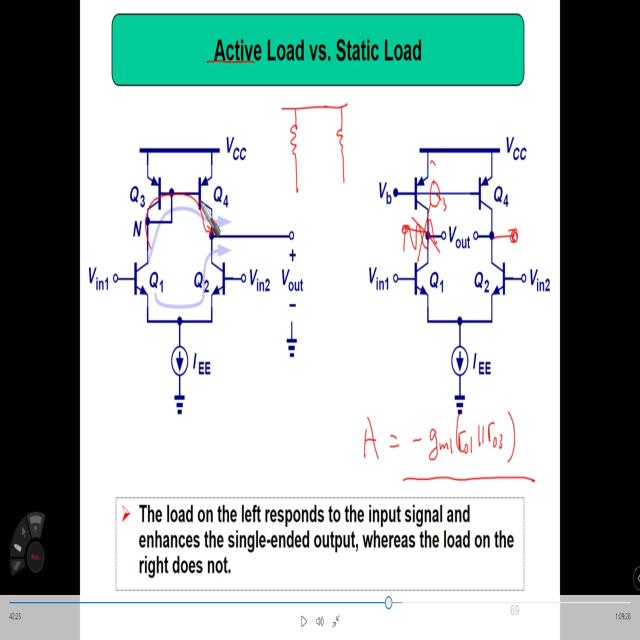panseo: (343, 386, 541, 497), (268, 88, 363, 202), (394, 175, 449, 274)
